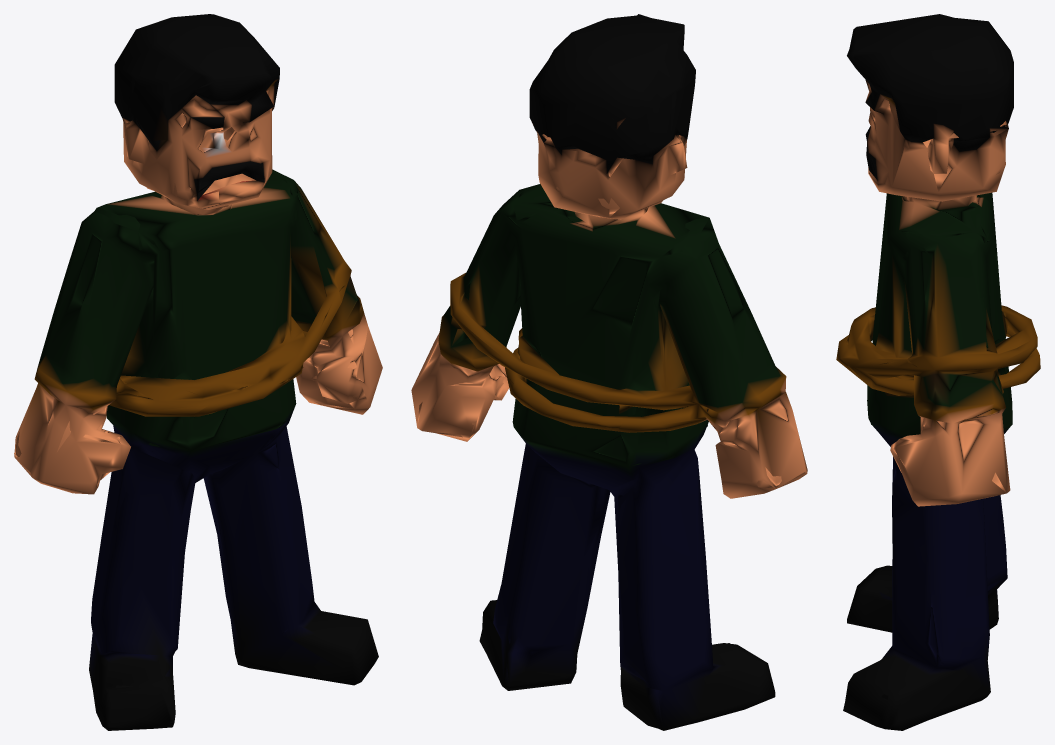
Rendered from gen3d-hostage-lod0.glb.
3 views of the same model, side by side, from view 1: azimuth 30°, elevation 25°; view 2: azimuth 150°, elevation 25°; view 3: azimuth 270°, elevation 25° (orthographic). The views are drawn at different scales.
Visible parts, largest first — view 1: part_0; view 2: part_0; view 3: part_0.
Part boxes in pixels (x1=…): part_0: x1=14, y1=14, x2=382, y2=730; part_0: x1=411, y1=14, x2=807, y2=730; part_0: x1=836, y1=14, x2=1040, y2=730.
Size of the model in its own units: 0.5919 by 0.9994 by 0.2921.
